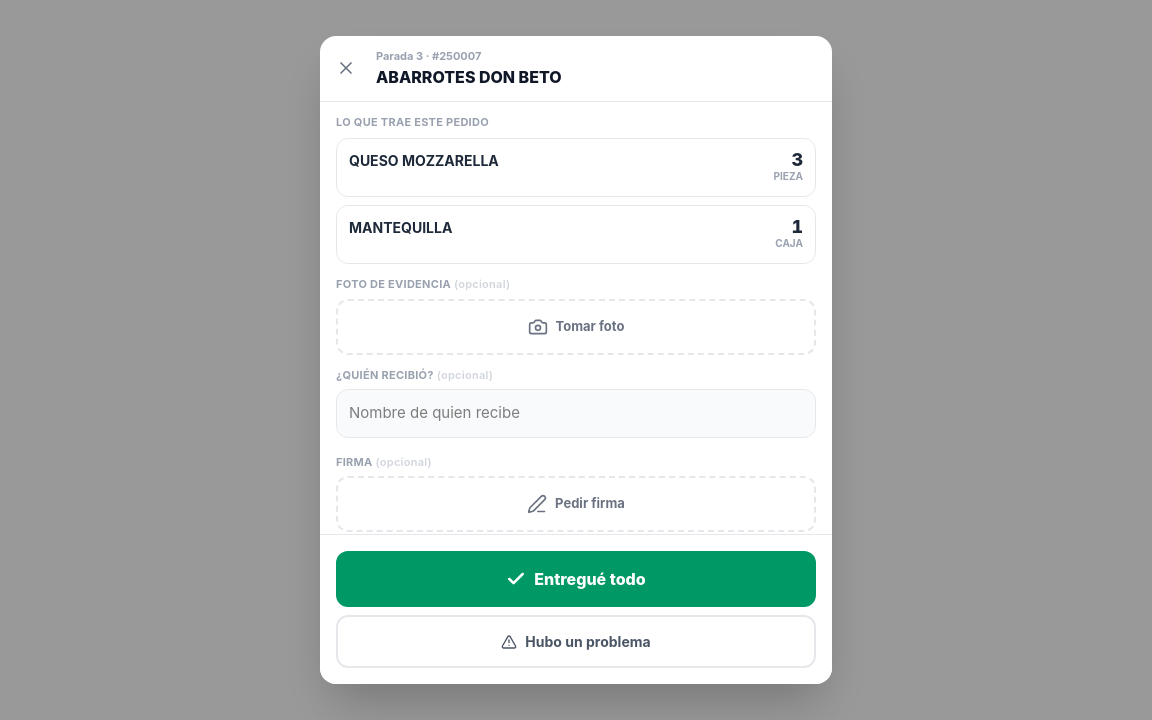
Test: los motivos vienen del backend, no de una copia › un motivo conocido conserva su texto corto de celular
Click the button "Hubo un problema". click: {"x": 576, "y": 642}
box: [336,615,816,668]
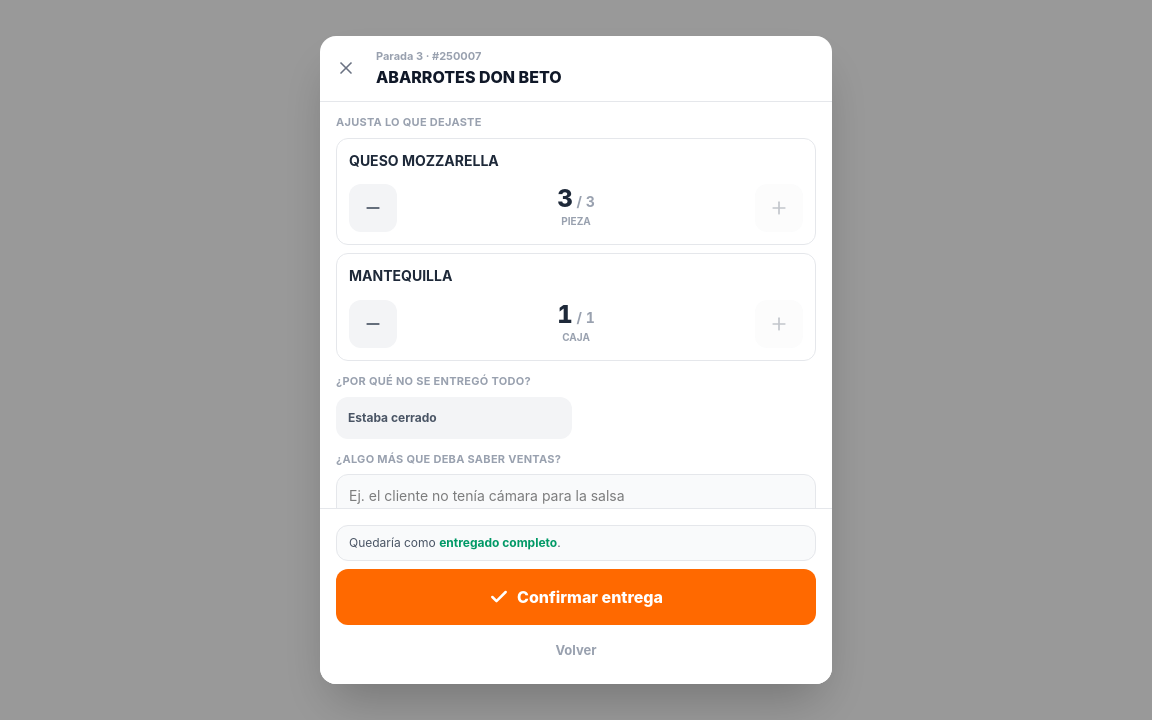
Now the button "Estaba cerrado" is shown, box [336,397,572,439]
